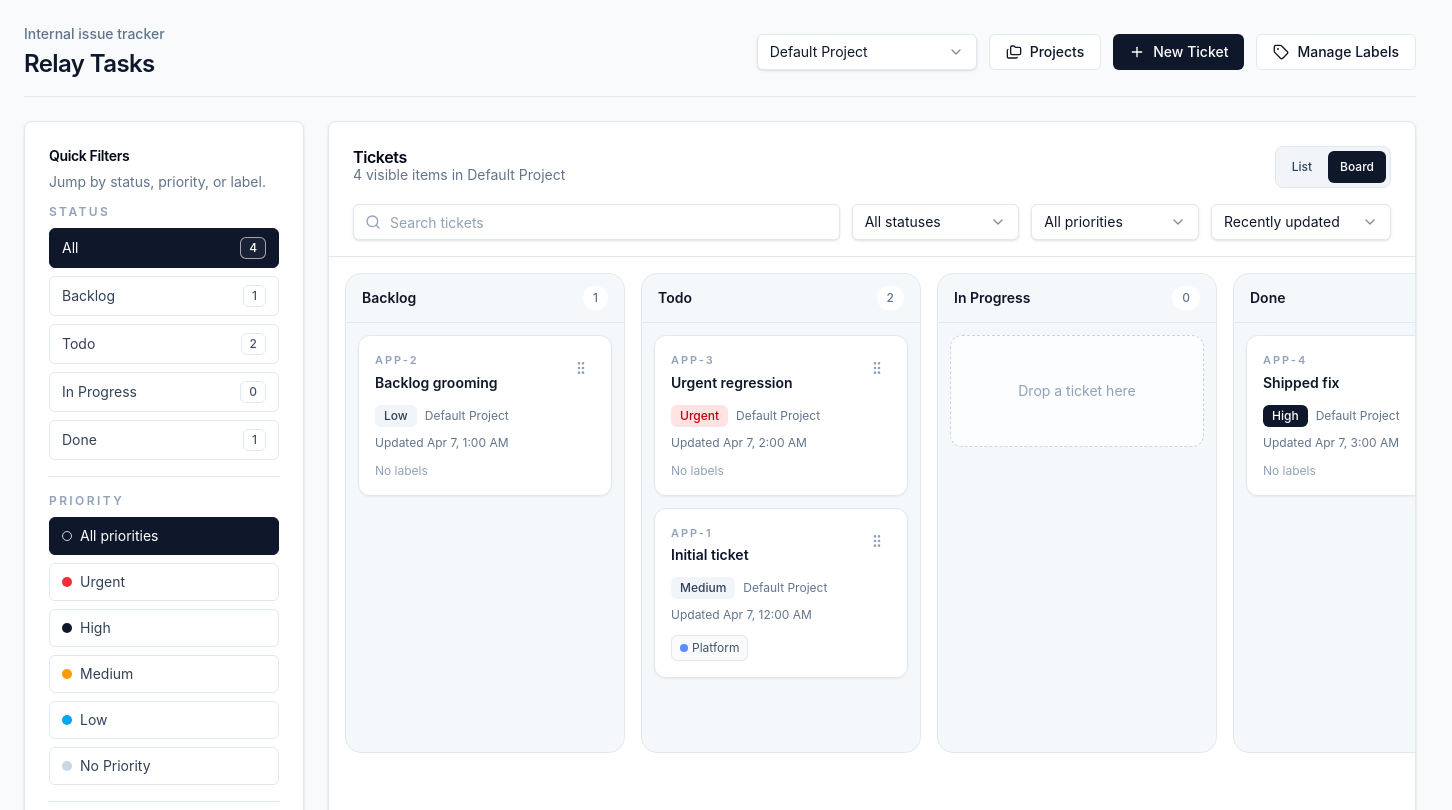
Test: App › reads board mode from the url and keeps grouping and filtering applied tickets
Check: the heading "Backlog grooming" is shown, box [375, 374, 498, 390]
Check: the heading "Shipped fix" is shown, box [1263, 374, 1340, 390]
Click the dropdown named "Sort tickets": (1301, 222) [1211, 204, 1391, 240]
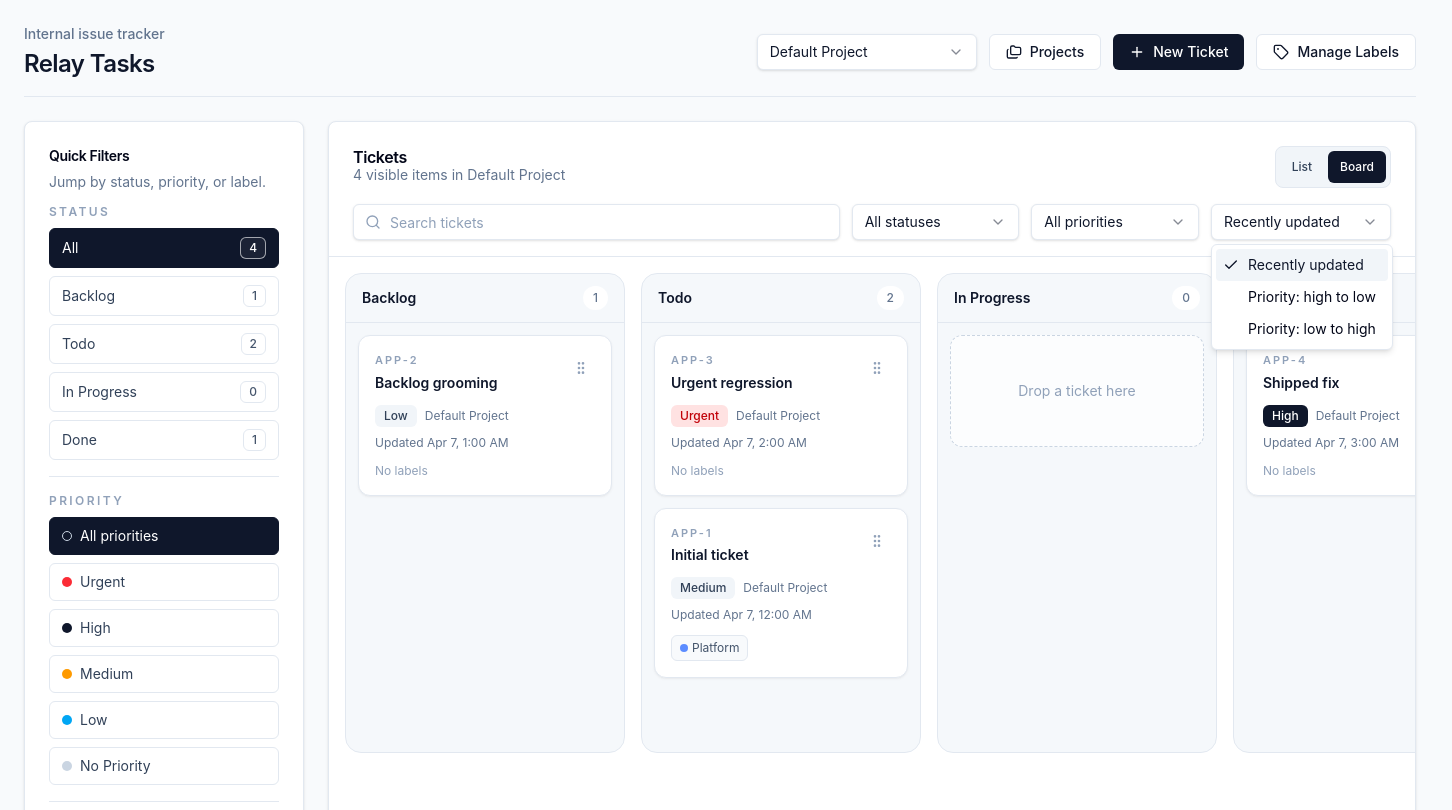
Click the option "Priority: high to low": (1312, 296) [1248, 288, 1376, 305]
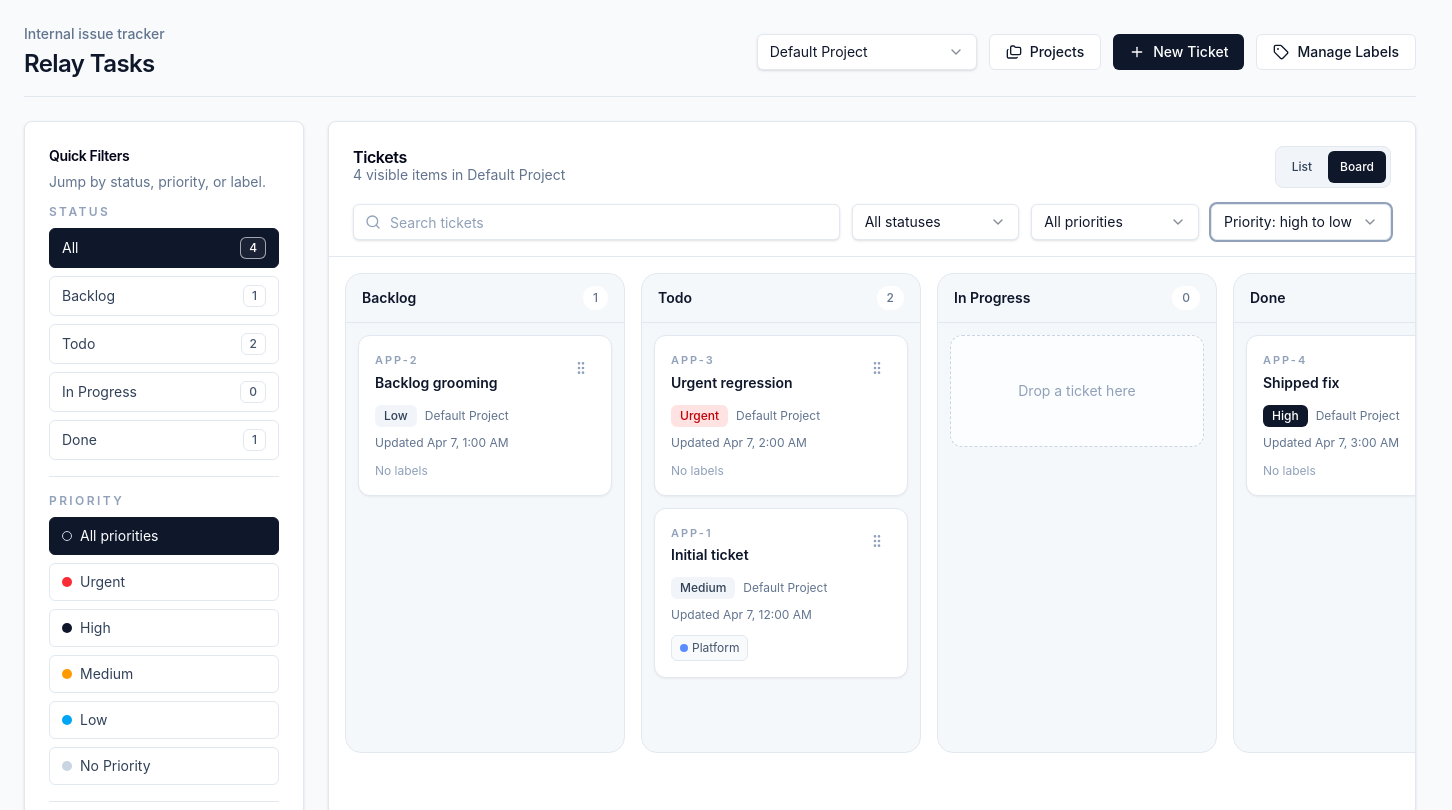
Check: the button that starts with "APP-3" shows "Urgent regression", box [671, 352, 855, 478]
In the field labelled "Search tickets": (596, 222) [353, 204, 840, 240], type "regression"
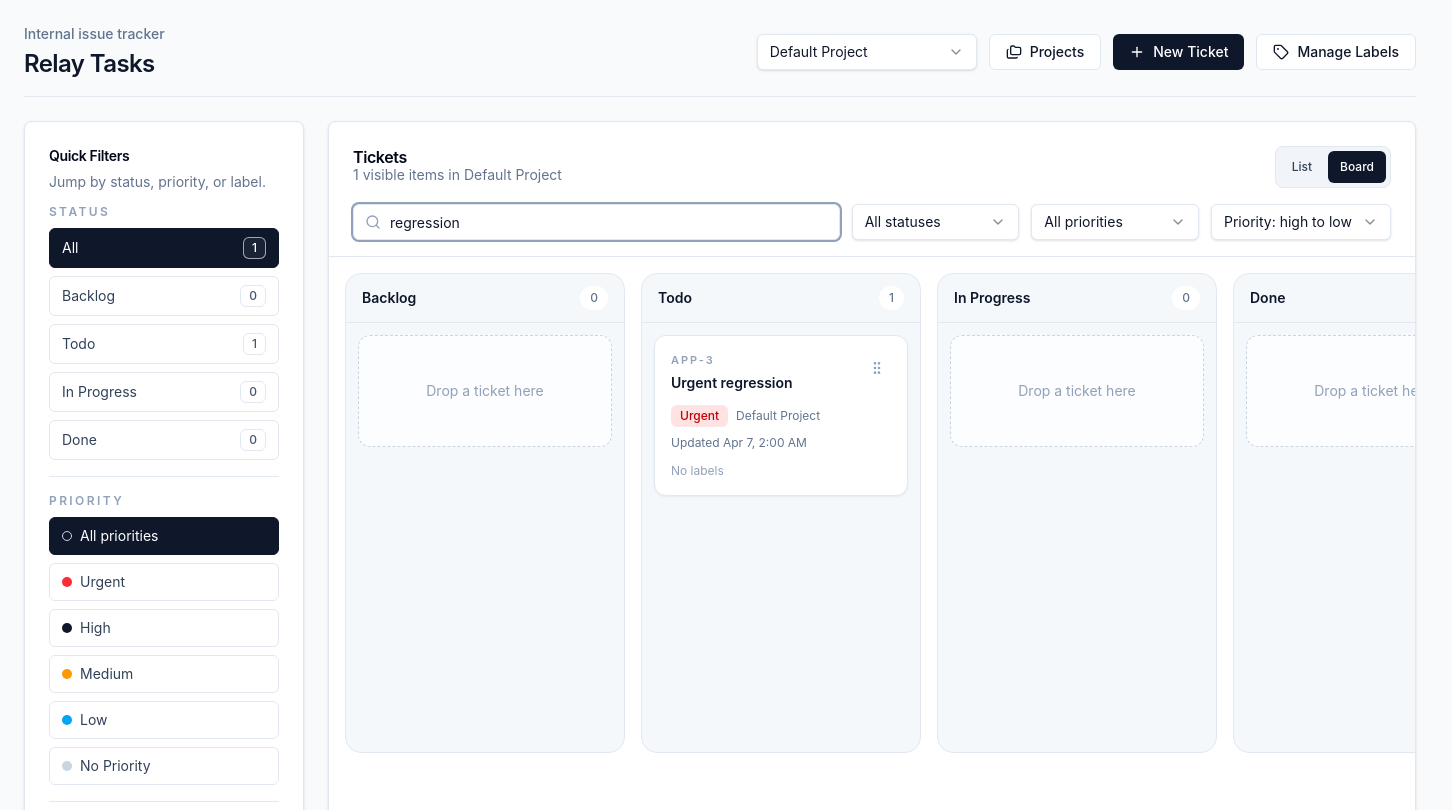
Check: the heading "Urgent regression" is shown, box [671, 374, 793, 390]
Check: the button "Initial ticket" is gone
